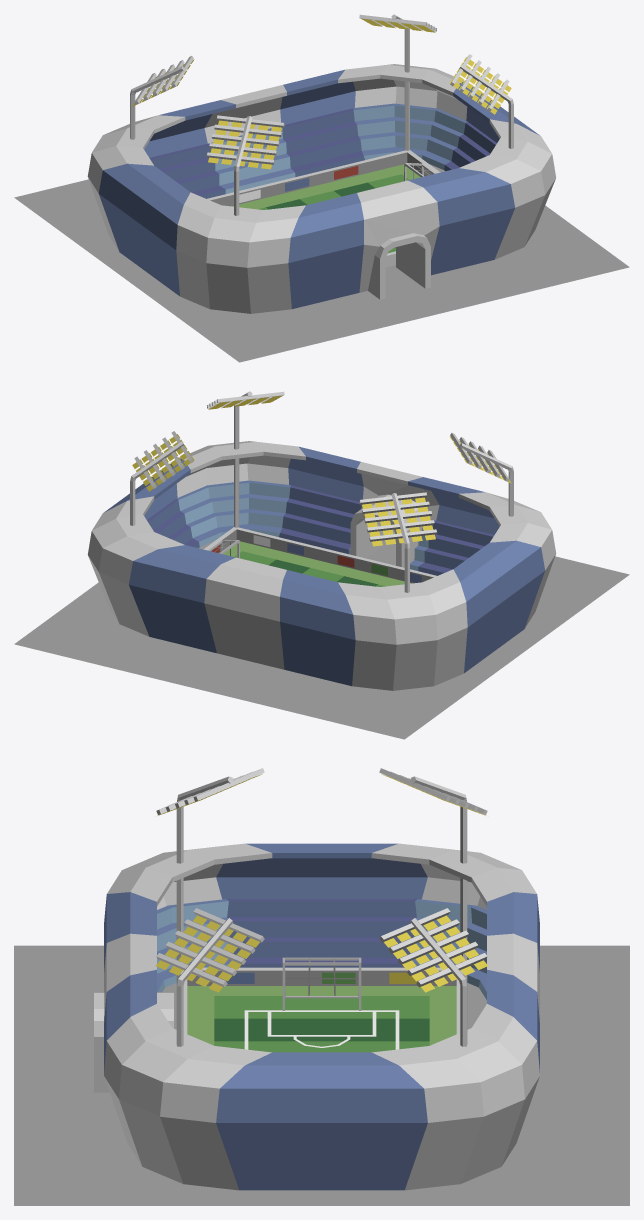
Rendered from stadium_004.fbx.
The picture shows the model from 3 angles, top to bottom: view 1: azimuth 30°, elevation 25°; view 2: azimuth 150°, elevation 25°; view 3: azimuth 270°, elevation 25°; orthographic projection. The views are drawn at different scales.
Parts seen in each view (by area): view 1: stadium_004; view 2: stadium_004; view 3: stadium_004.
Boxes of the visible parts, x1,y1,x2,y2 form: stadium_004: (14,14,629,362); stadium_004: (14,391,629,739); stadium_004: (14,768,629,1205).
Size of the model in its own units: 1600 by 679 by 1600.
